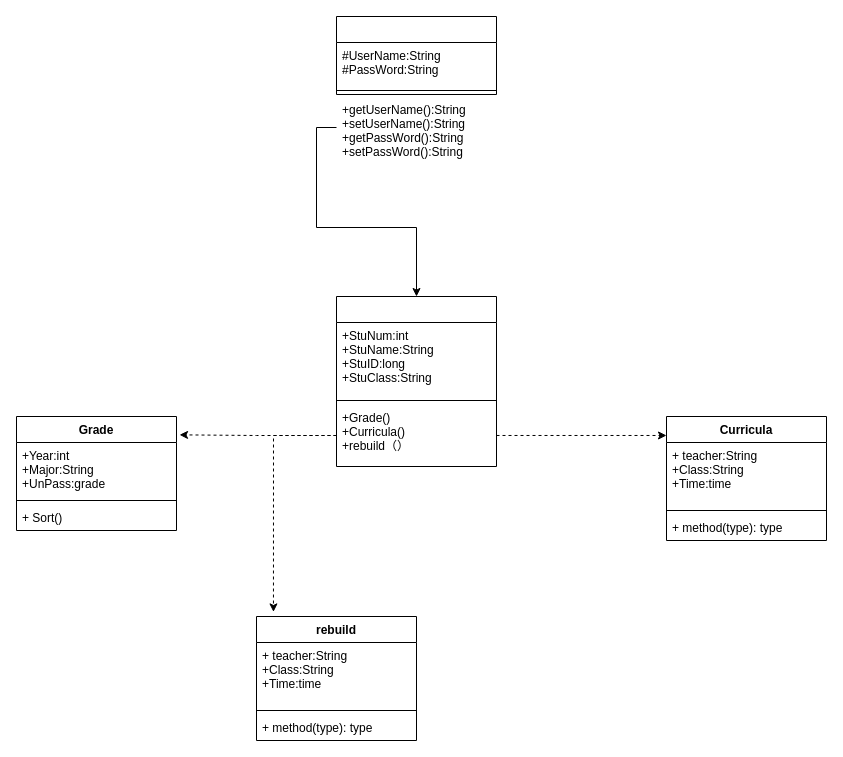
Some shapes in this 843 by 757 pixel diagram are drawn without their labels. Each missing label, with the box of its shape:
Student: (336, 296, 496, 466)
StudentLogin: (336, 16, 496, 94)
